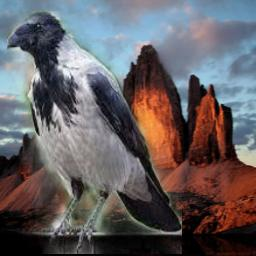Crow: (7, 11, 182, 254)
